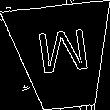M_S: (32, 29, 92, 84)
